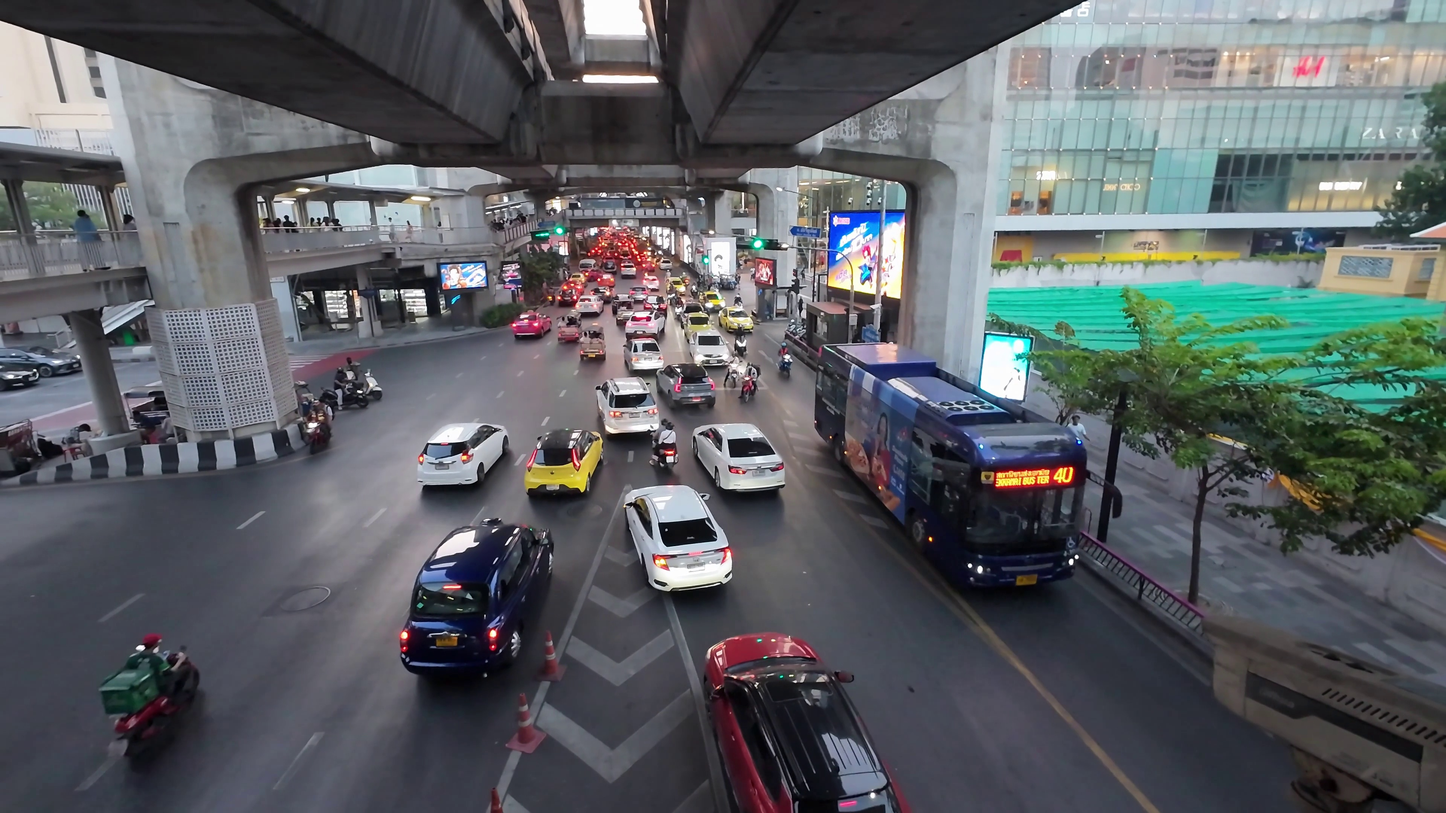license_plate: (883, 492, 1019, 570), (754, 740, 857, 797), (437, 613, 516, 664), (649, 548, 707, 583), (122, 713, 174, 742), (715, 468, 763, 492), (440, 463, 487, 485), (544, 469, 586, 492), (613, 414, 647, 434), (679, 396, 705, 408), (522, 328, 542, 337)
motorcycle: (97, 633, 200, 748)
no_seatbelt: (856, 382, 1046, 504), (733, 659, 877, 749), (421, 540, 532, 621), (638, 499, 718, 554), (706, 435, 772, 472), (430, 431, 496, 466), (536, 436, 594, 472), (606, 386, 653, 417), (674, 379, 709, 398), (518, 315, 546, 329)
